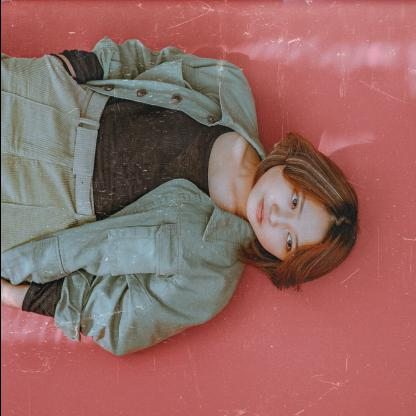Eye: (287, 184, 299, 212), (283, 230, 292, 252)
Mouth: (255, 195, 266, 227)
Nose: (266, 199, 288, 230)
